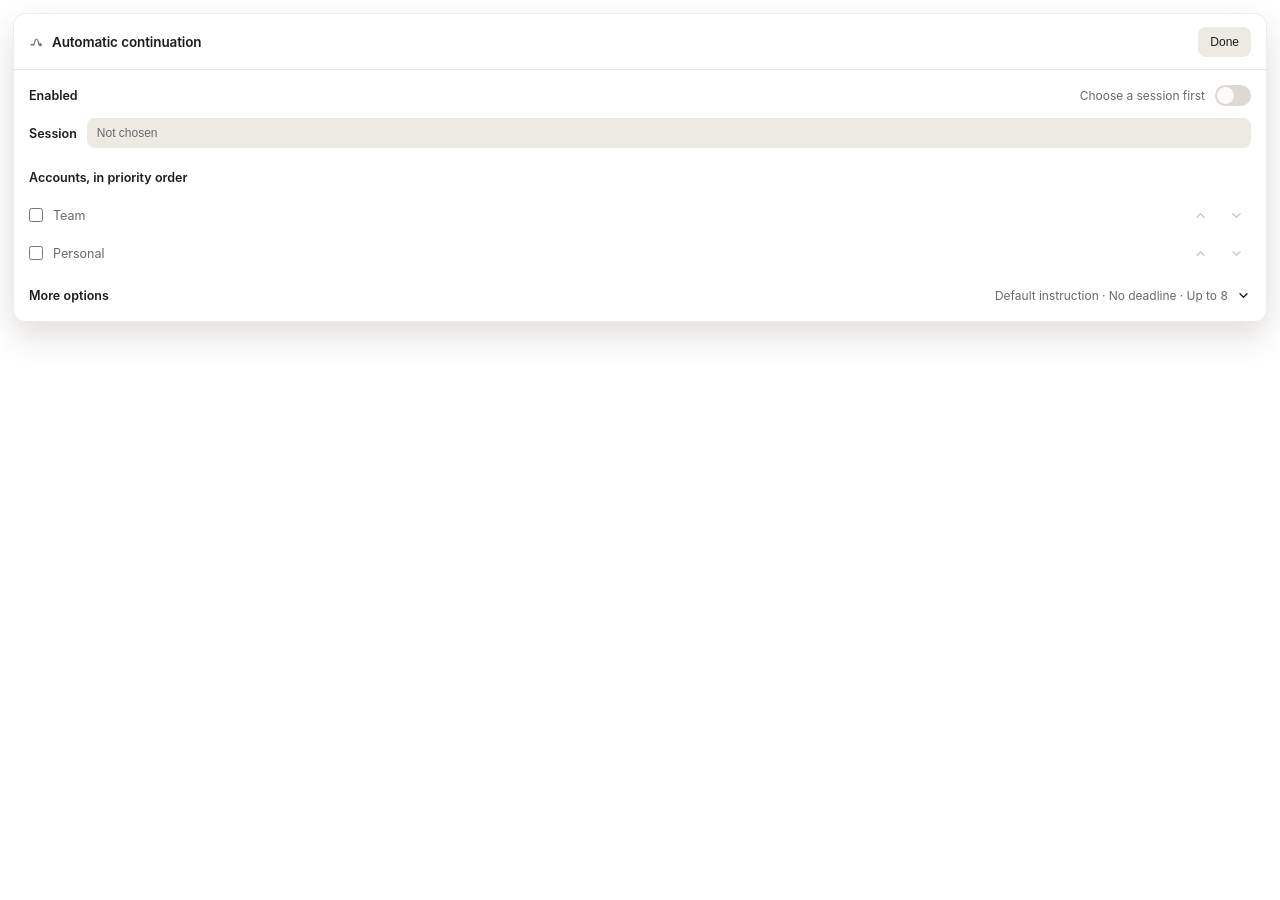
Test: the settings group › flips to the chooser page and back, reading the list on the way in
Expected: the dialog "Automatic continuation" is shown, [13,13,1267,322]
Click the button with aria-label "Choose a session" at (127, 133), box [87,118,1251,148]
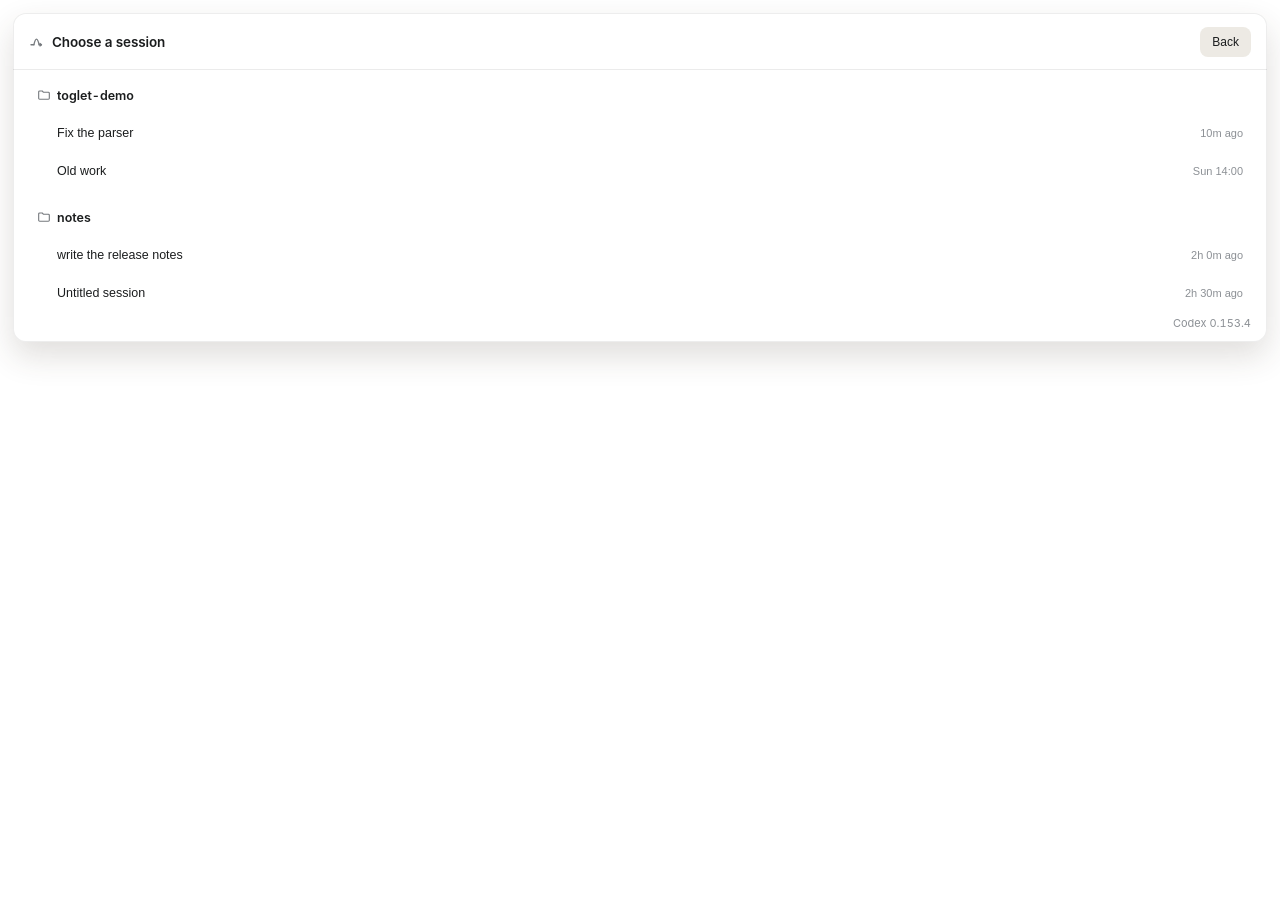
Expected: the dialog "Choose a session" is shown, [13,13,1267,342]
Expected: the switch is gone
Expected: the number of options is 4, [29,114,1251,152]; [29,152,1251,190]; [29,236,1251,274]; [29,274,1251,312]
Click the button "Back" at (1226, 42), box [1200,27,1251,57]
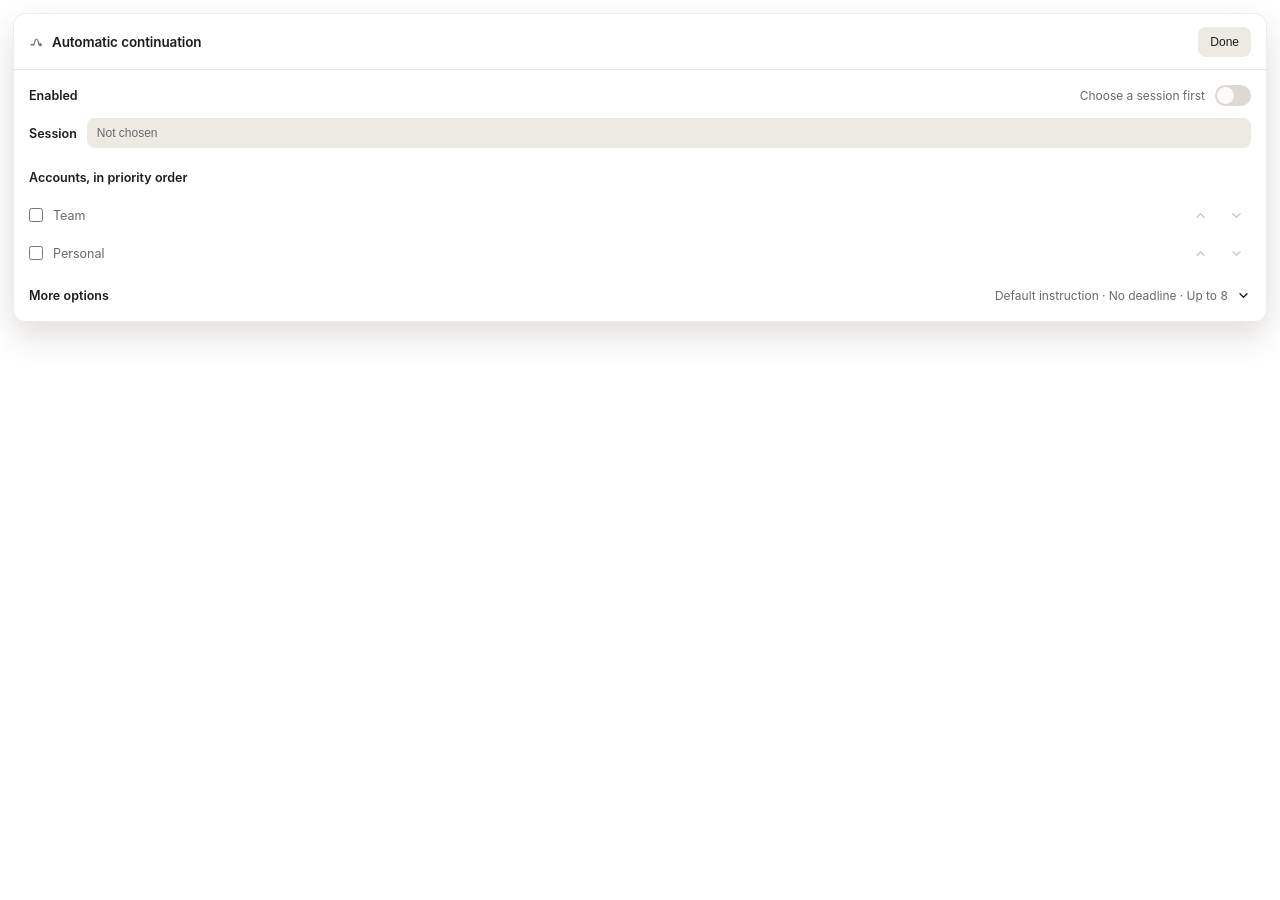
Expected: the switch named "Enabled" is shown, [1215,84,1251,106]
Click the button with aria-label "Choose a session" at (127, 133), box [87,118,1251,148]
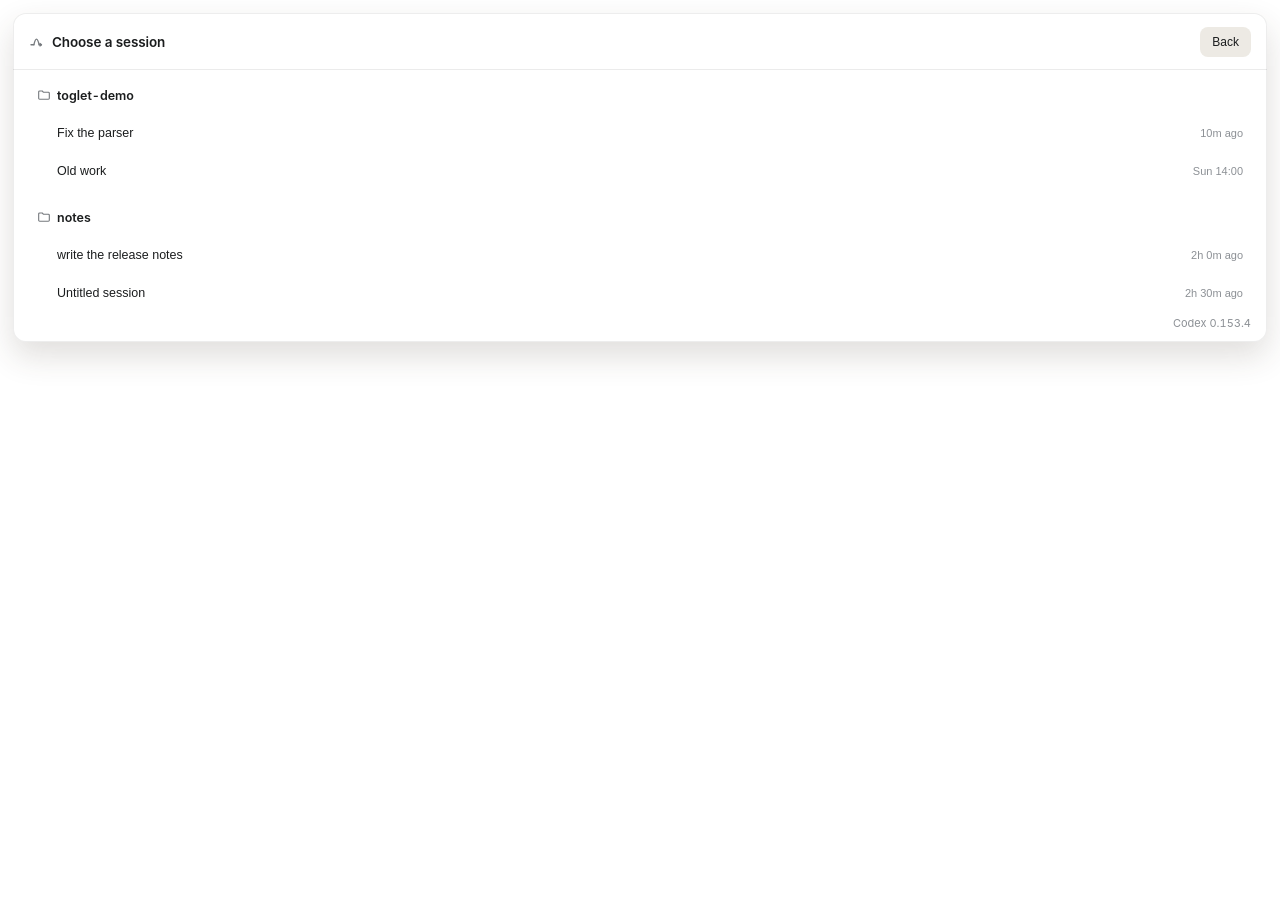
Click the option "Old work Sun 14:00" at (82, 171), box [29,152,1251,190]
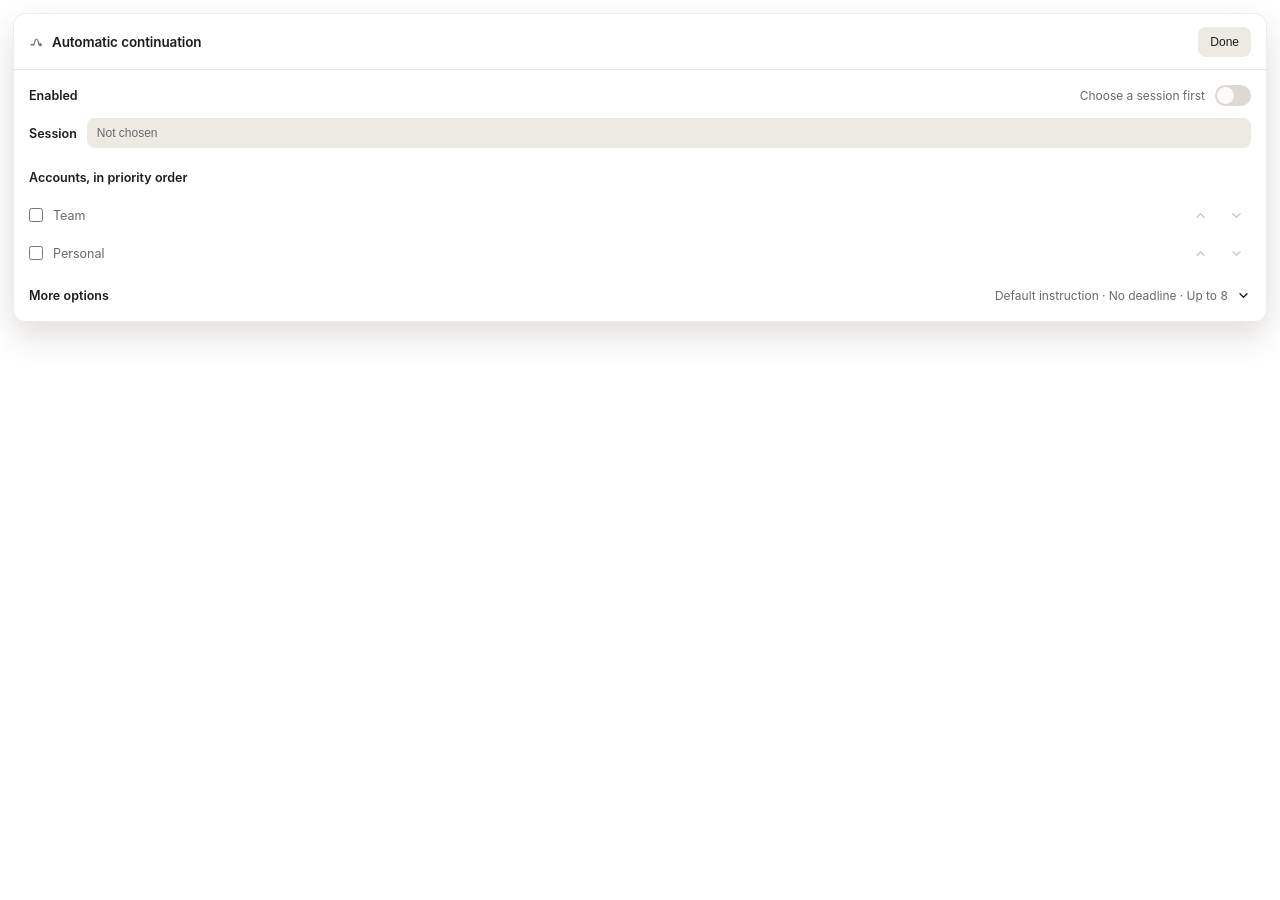
Expected: the dialog "Automatic continuation" is shown, [13,13,1267,322]
